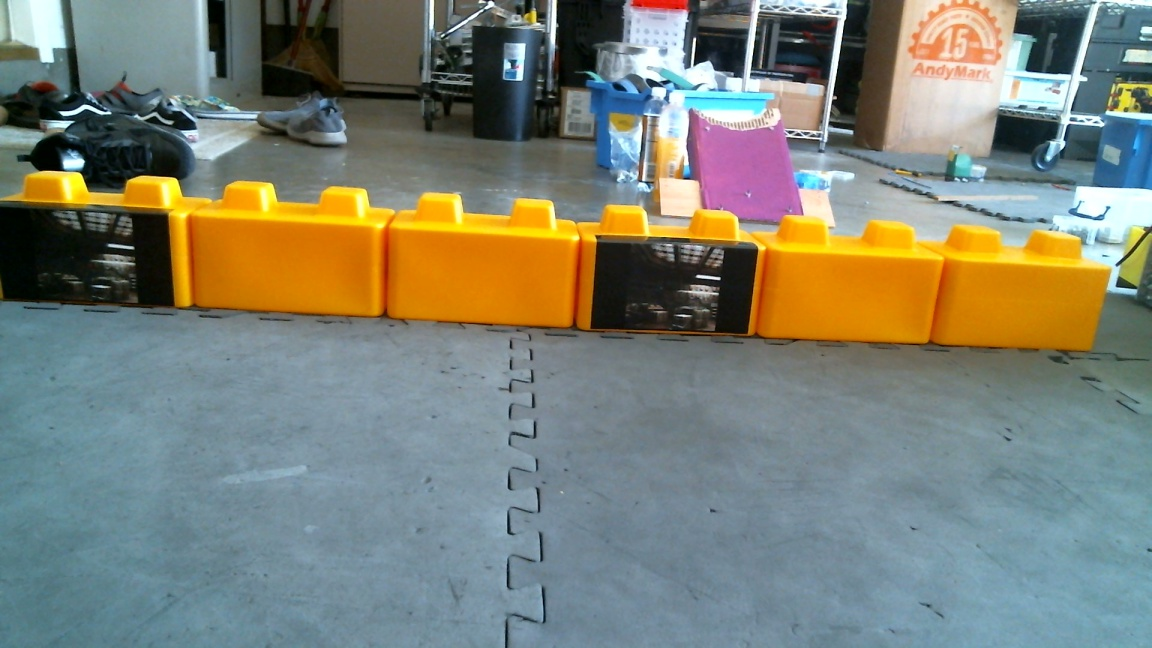center: (385, 192, 944, 343)
left: (4, 169, 574, 337), (577, 202, 1106, 359)
right: (190, 179, 761, 334)
